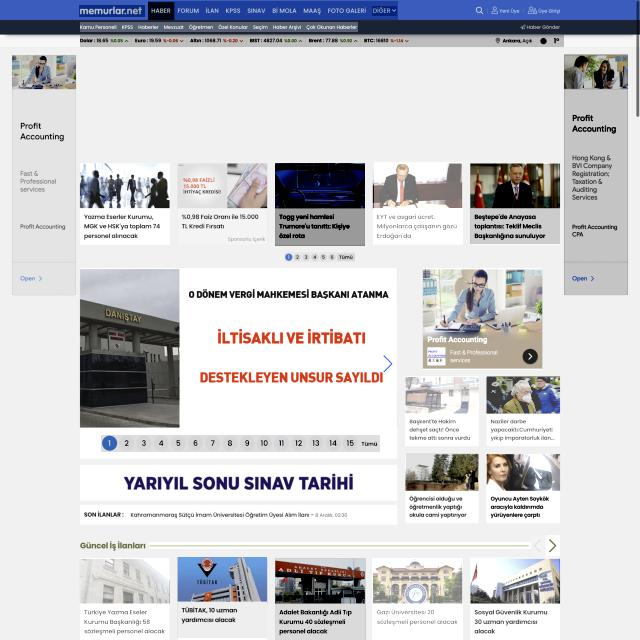ImageView: (564, 54, 628, 295), (12, 55, 76, 295), (423, 268, 542, 370), (177, 163, 268, 245)
QR code: (80, 35, 564, 47)
Spinner: (275, 163, 365, 246), (275, 558, 366, 640), (372, 558, 463, 640), (470, 557, 559, 640), (80, 163, 170, 245), (177, 558, 267, 640), (374, 162, 463, 244), (80, 558, 169, 639), (470, 164, 560, 244), (405, 376, 478, 446), (486, 454, 560, 523), (487, 377, 560, 446), (406, 454, 478, 523)
accordion: (149, 542, 531, 549)
alert: (372, 6, 397, 16)
bag: (0, 0, 636, 48)
copy: (80, 268, 397, 428), (405, 376, 479, 414), (486, 454, 560, 492), (487, 376, 560, 414), (406, 453, 478, 491)
date picker: (79, 5, 145, 17)
decoration: (80, 22, 358, 32)
dropdown: (101, 435, 380, 452), (284, 252, 355, 262)
icon: (148, 1, 398, 20)
